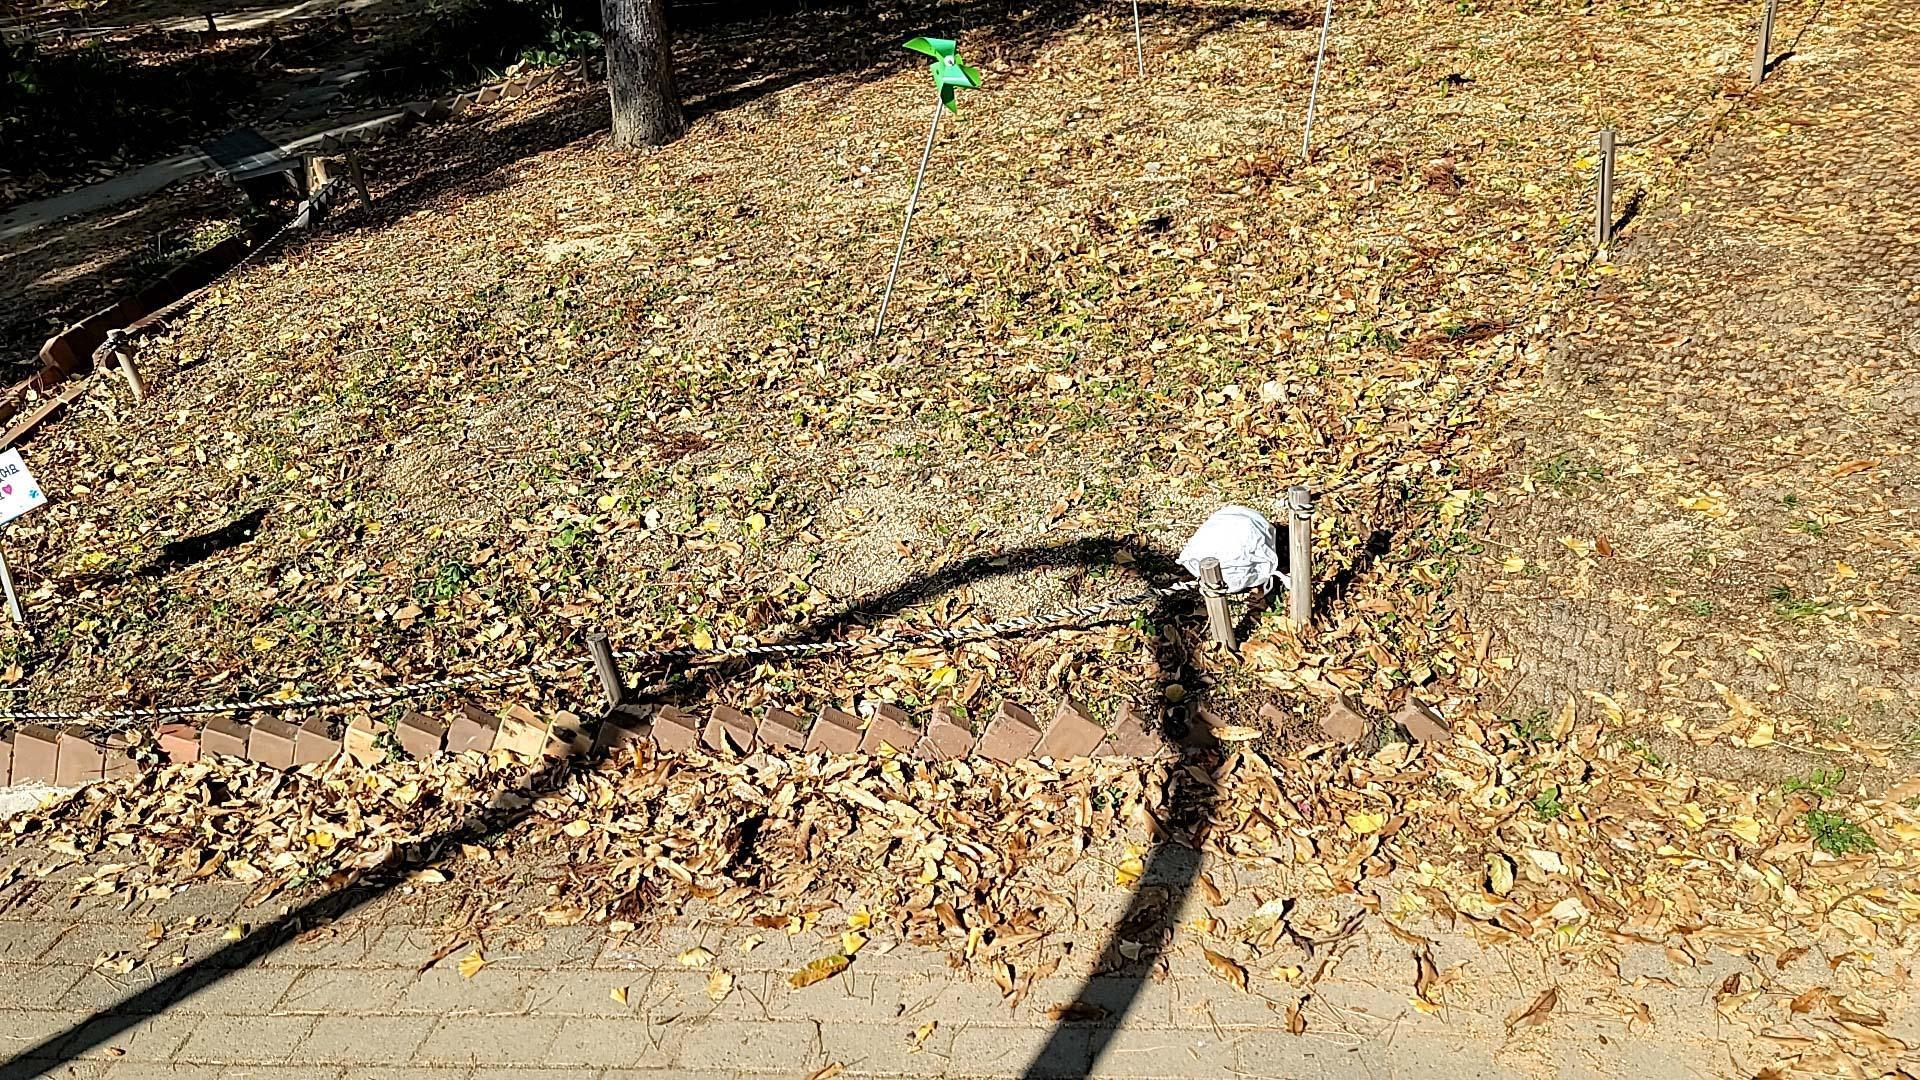white_bag: (1167, 498, 1299, 603)
